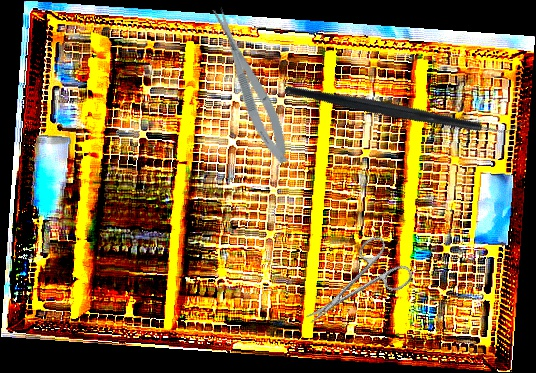Chopper: (283, 7, 526, 208)
Iris Scissors: (290, 230, 416, 343)
Micro Scissor: (206, 1, 296, 169)
